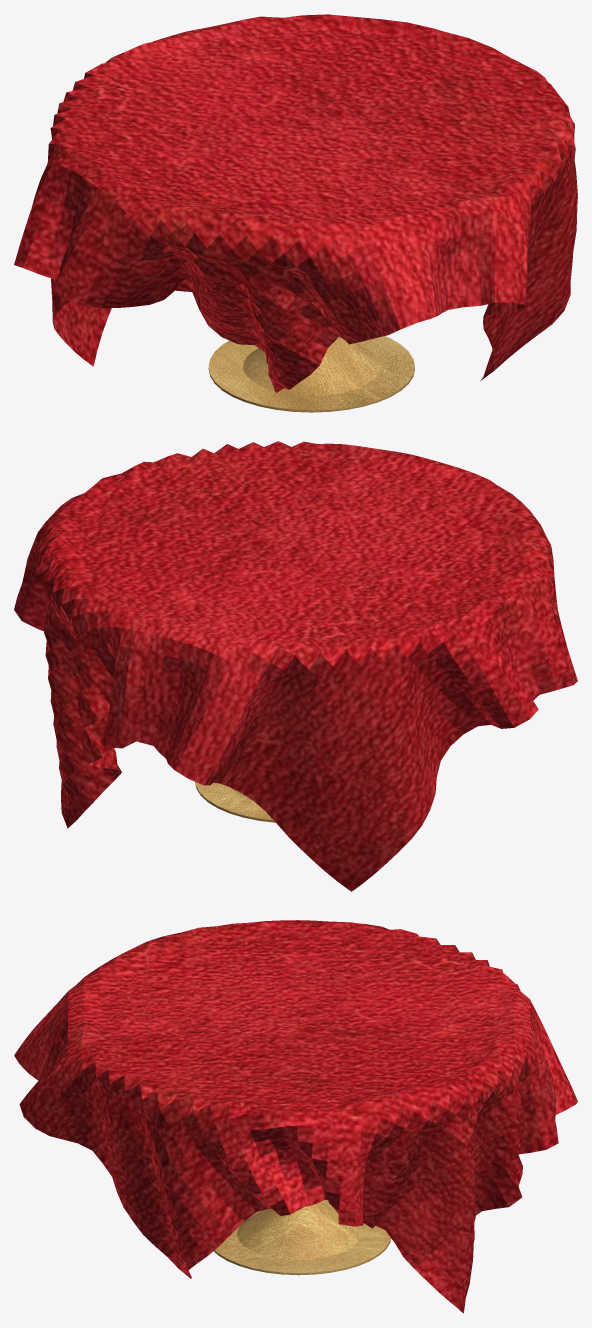
Rendered from table.obj.
3 renders of one model, top to bottom at view 1: azimuth 30°, elevation 25°; view 2: azimuth 150°, elevation 25°; view 3: azimuth 270°, elevation 25°, orthographic. The views are drawn at different scales.
Parts seen in each view (by area): view 1: table; view 2: table; view 3: table.
Part boxes in pixels (left/top/right/bottom): table: left=14, top=14, right=577, bottom=412; table: left=14, top=441, right=577, bottom=891; table: left=14, top=920, right=577, bottom=1313.
Size of the model in its own units: 477 by 233 by 486.
